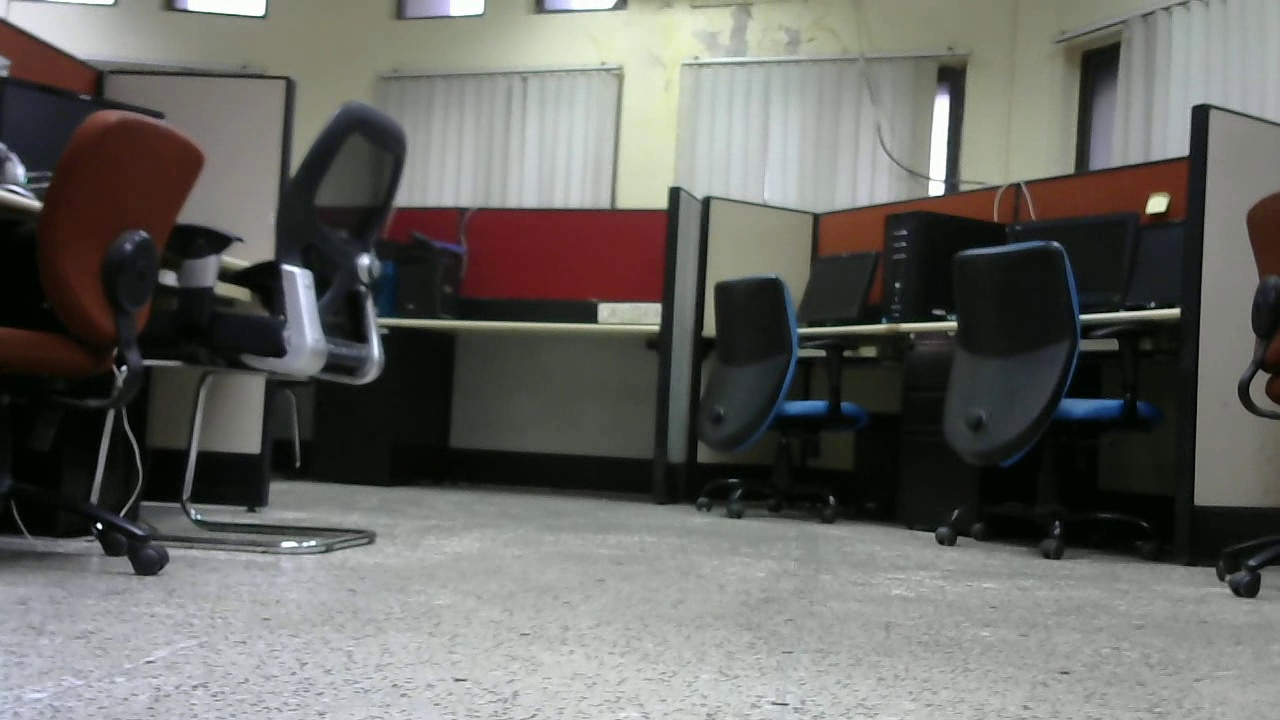chair: (4, 110, 219, 579), (208, 100, 423, 554), (905, 233, 1159, 569), (673, 276, 874, 527)
